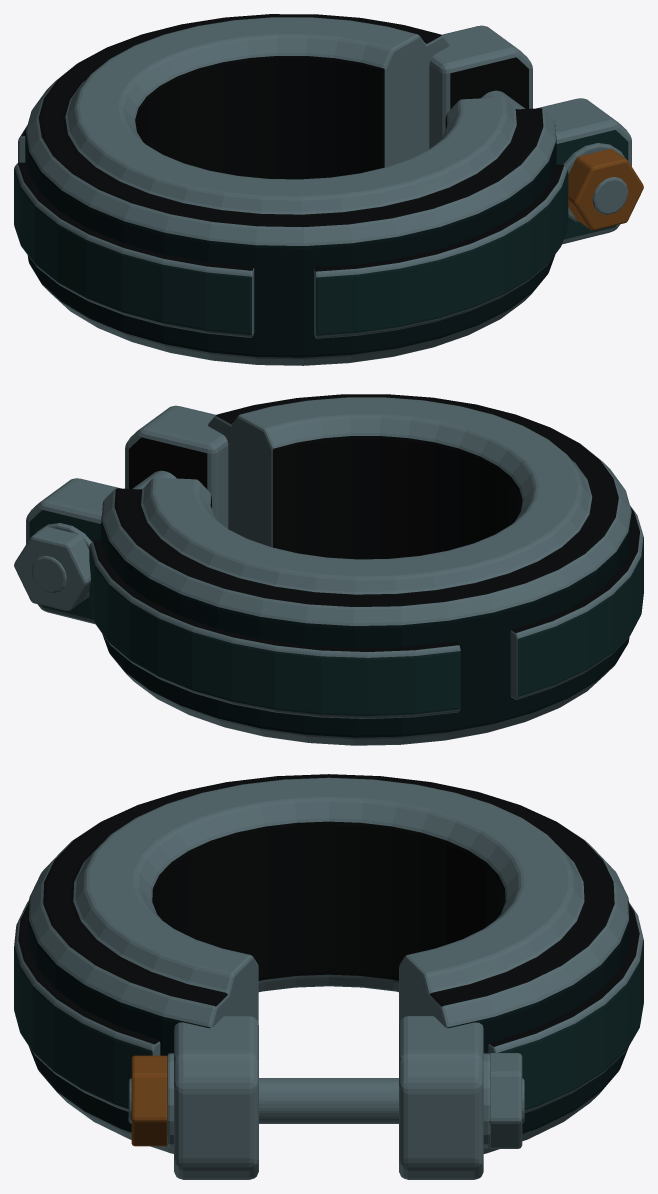
The model's file is SM_HopperMk2Wreck_SplitCoupling.fbx.
The picture shows the model from 3 angles, top to bottom: view 1: azimuth 30°, elevation 25°; view 2: azimuth 150°, elevation 25°; view 3: azimuth 270°, elevation 25°; orthographic projection. The views are drawn at different scales.
Visible parts, largest first — view 1: SM_HopperMk2Wreck_SplitCoupling; view 2: SM_HopperMk2Wreck_SplitCoupling; view 3: SM_HopperMk2Wreck_SplitCoupling.
Boxes of the visible parts, bbox=[...] form: SM_HopperMk2Wreck_SplitCoupling: bbox=[14, 14, 643, 365]; SM_HopperMk2Wreck_SplitCoupling: bbox=[14, 394, 643, 745]; SM_HopperMk2Wreck_SplitCoupling: bbox=[14, 774, 643, 1179].
Size of the model in its own units: 25.09 by 23.39 by 7.6.
